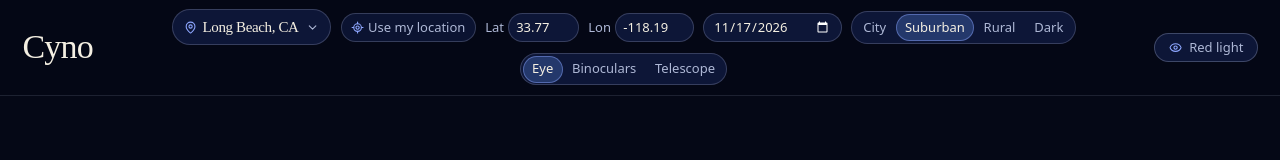
Test: ControlsBar › geolocation › explains error code 3 (TIMEOUT) with its own message
The width and height of the screenshot is (1280, 160).
Click the button "Use my location" at (408, 27), box left=341, top=13, right=476, bottom=42
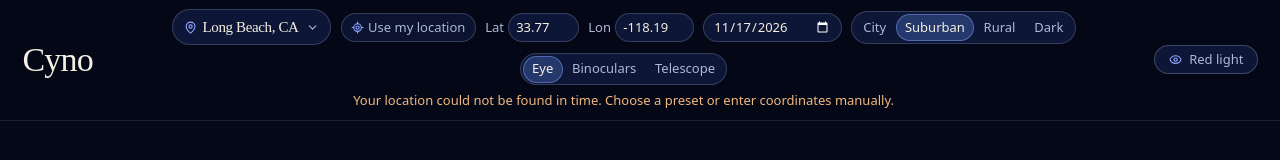
Now the message shows "Your location could not be found in time. Choose a preset or enter coordinates manually.", box left=353, top=91, right=894, bottom=109
